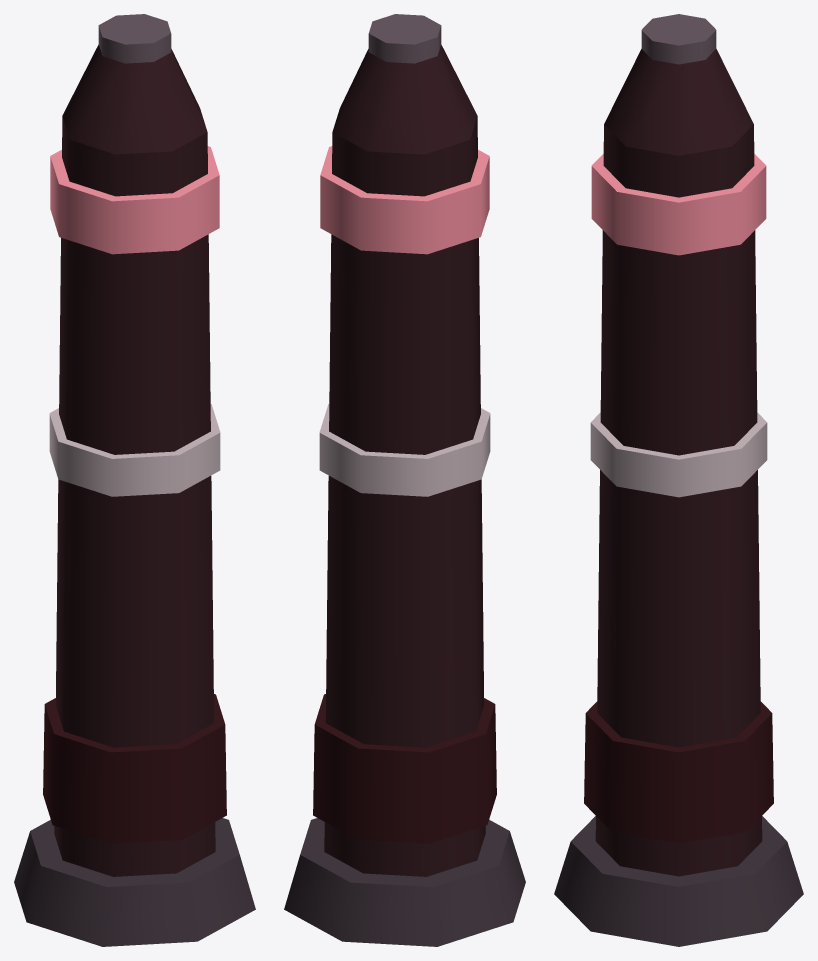
The model's file is SM_Bollard_01.obj.
The picture shows the model from 3 angles, left to right: view 1: azimuth 30°, elevation 25°; view 2: azimuth 150°, elevation 25°; view 3: azimuth 270°, elevation 25°; orthographic projection.
Parts seen in each view (by area): view 1: shaft, scuff_band, base_ring, cap_dome, band_reflective_hi, band_reflective_lo, cap_button; view 2: shaft, scuff_band, base_ring, cap_dome, band_reflective_hi, band_reflective_lo, cap_button; view 3: shaft, scuff_band, base_ring, cap_dome, band_reflective_hi, band_reflective_lo, cap_button.
Boxes of the visible parts, <box> form: shaft: <box>54,116,215,876</box>; scuff_band: <box>43,694,226,843</box>; base_ring: <box>14,818,255,946</box>; cap_dome: <box>62,44,207,154</box>; band_reflective_hi: <box>50,146,219,254</box>; band_reflective_lo: <box>49,404,220,496</box>; cap_button: <box>98,14,171,63</box>; shaft: <box>324,116,485,876</box>; scuff_band: <box>313,694,496,843</box>; base_ring: <box>284,818,525,946</box>; cap_dome: <box>332,44,477,154</box>; band_reflective_hi: <box>320,146,489,254</box>; band_reflective_lo: <box>319,404,490,496</box>; cap_button: <box>368,14,441,63</box>; shaft: <box>595,124,762,876</box>; scuff_band: <box>584,701,773,843</box>; base_ring: <box>554,816,803,946</box>; cap_dome: <box>604,49,753,155</box>; band_reflective_hi: <box>591,154,766,255</box>; band_reflective_lo: <box>590,412,767,497</box>; cap_button: <box>641,14,716,64</box>.
Bounding box in the file's own units: 0.3 × 1.14 × 0.3.
